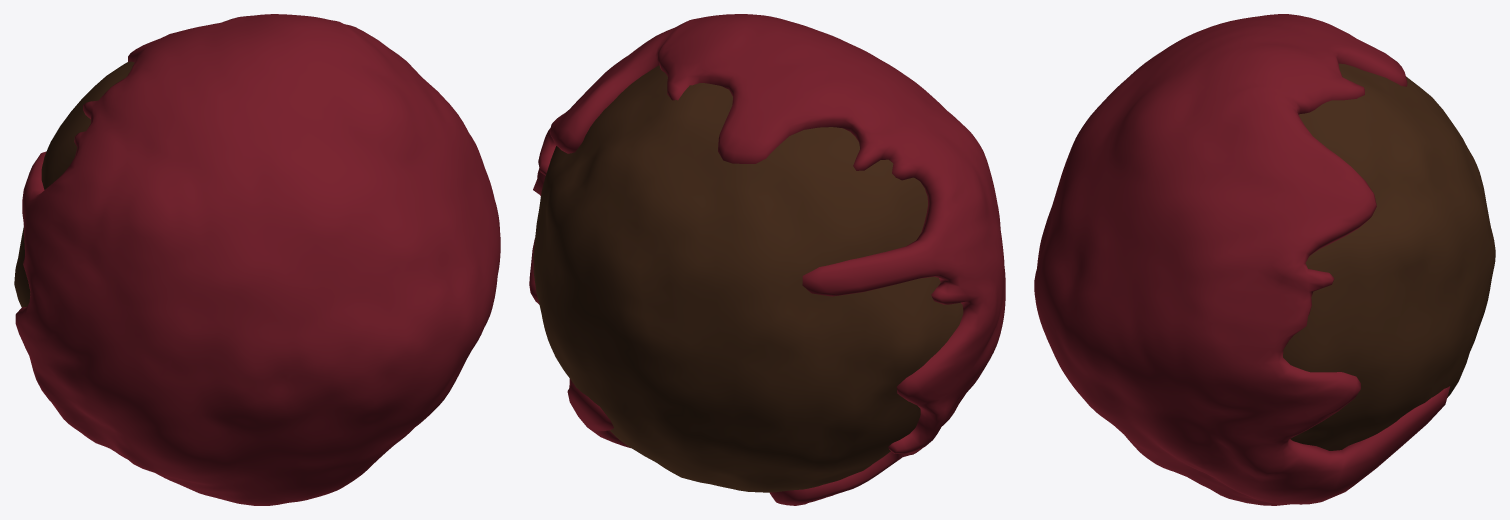
File: meatballREAL 2.fbx
The picture shows the model from 3 angles, left to right: view 1: azimuth 30°, elevation 25°; view 2: azimuth 150°, elevation 25°; view 3: azimuth 270°, elevation 25°; orthographic projection. The views are drawn at different scales.
Visible parts, largest first — view 1: Sauce, Meatball; view 2: Meatball, Sauce; view 3: Sauce, Meatball.
Part boxes in pixels (left/top/right/bottom): Sauce: left=15, top=14, right=500, bottom=505; Meatball: left=14, top=61, right=134, bottom=307; Meatball: left=533, top=65, right=963, bottom=492; Sauce: left=529, top=14, right=1005, bottom=505; Sauce: left=1034, top=14, right=1450, bottom=505; Meatball: left=1283, top=63, right=1495, bottom=450.
Size of the model in its own units: 235 by 228 by 217.
